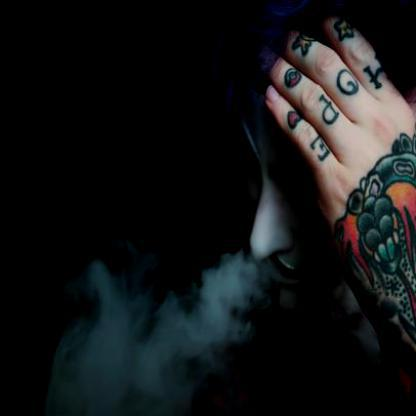smoke: (45, 249, 254, 415)
